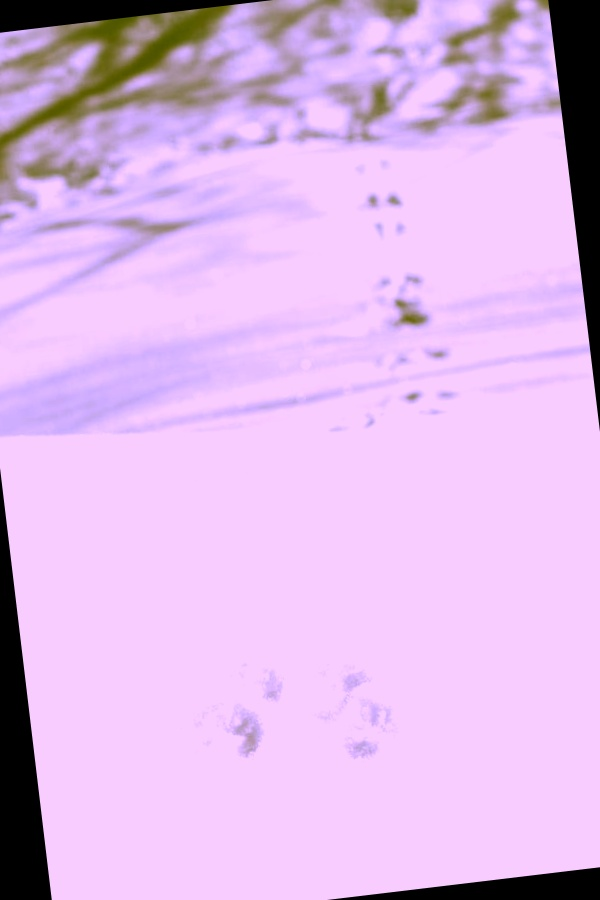lapin: (339, 629, 465, 777), (216, 637, 325, 780)
